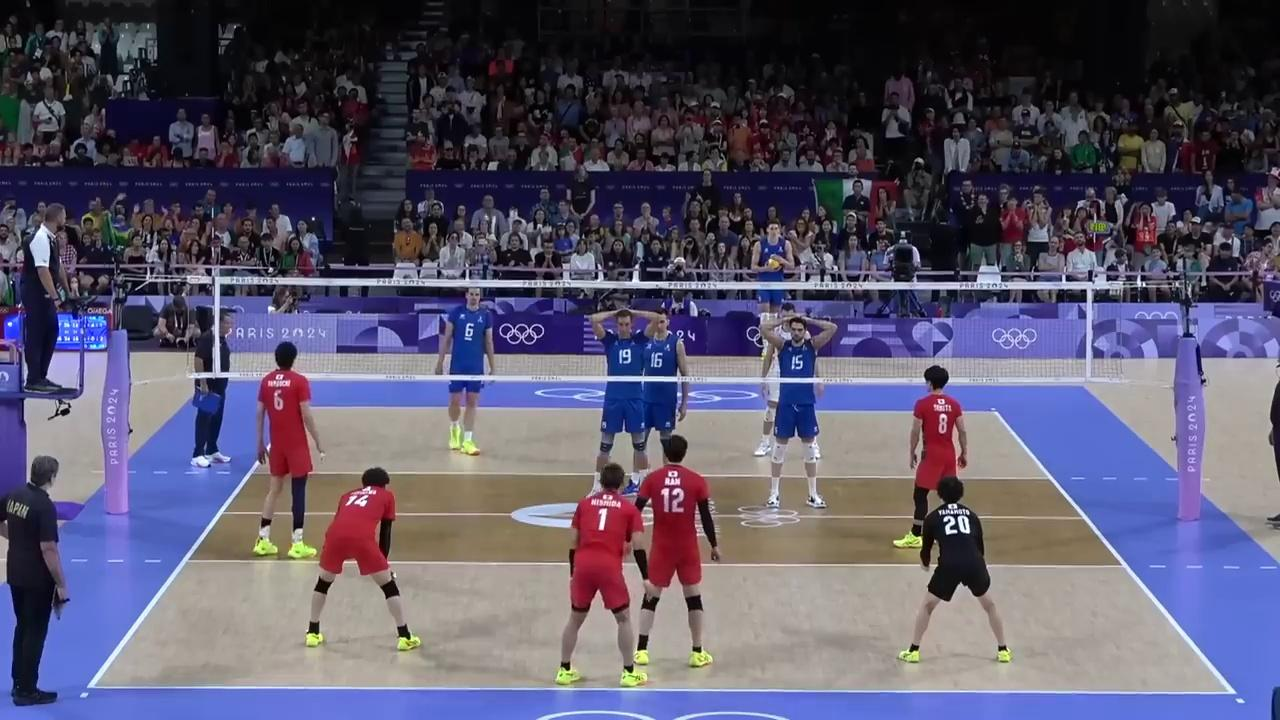ball: (765, 258, 781, 273)
